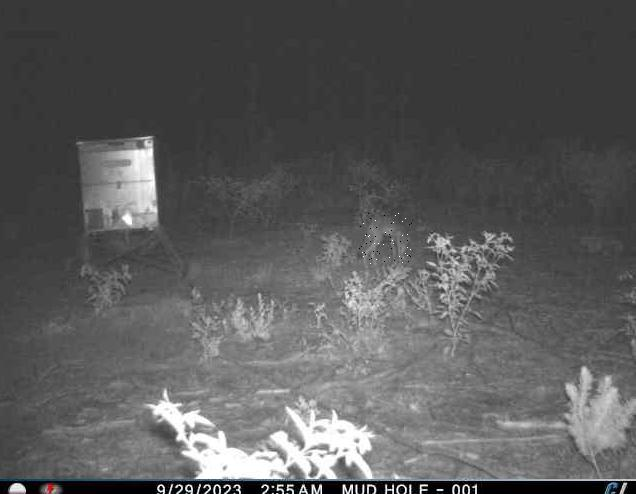Coyote: (359, 213, 412, 265)
